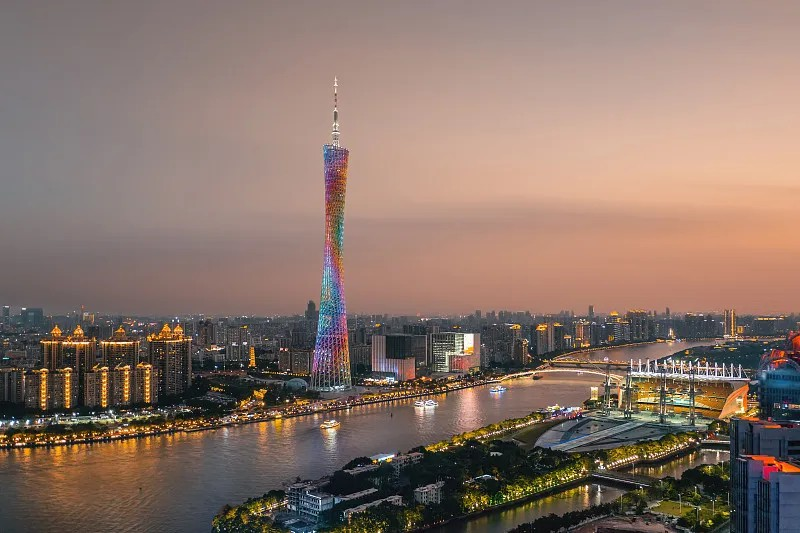Canton: (308, 76, 352, 390)
